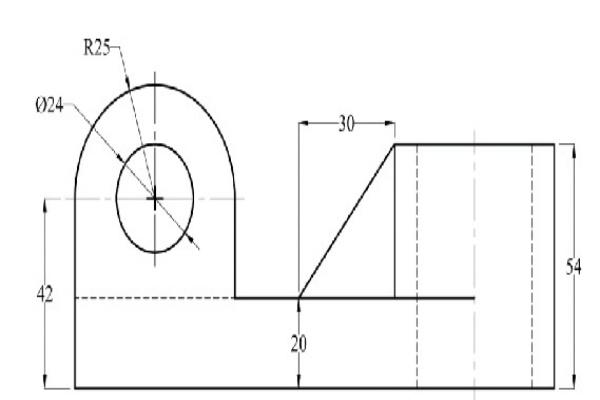dimensions: (29, 95, 72, 119), (77, 36, 118, 61), (333, 108, 363, 136), (287, 328, 312, 355), (559, 255, 585, 278), (33, 281, 56, 303)
